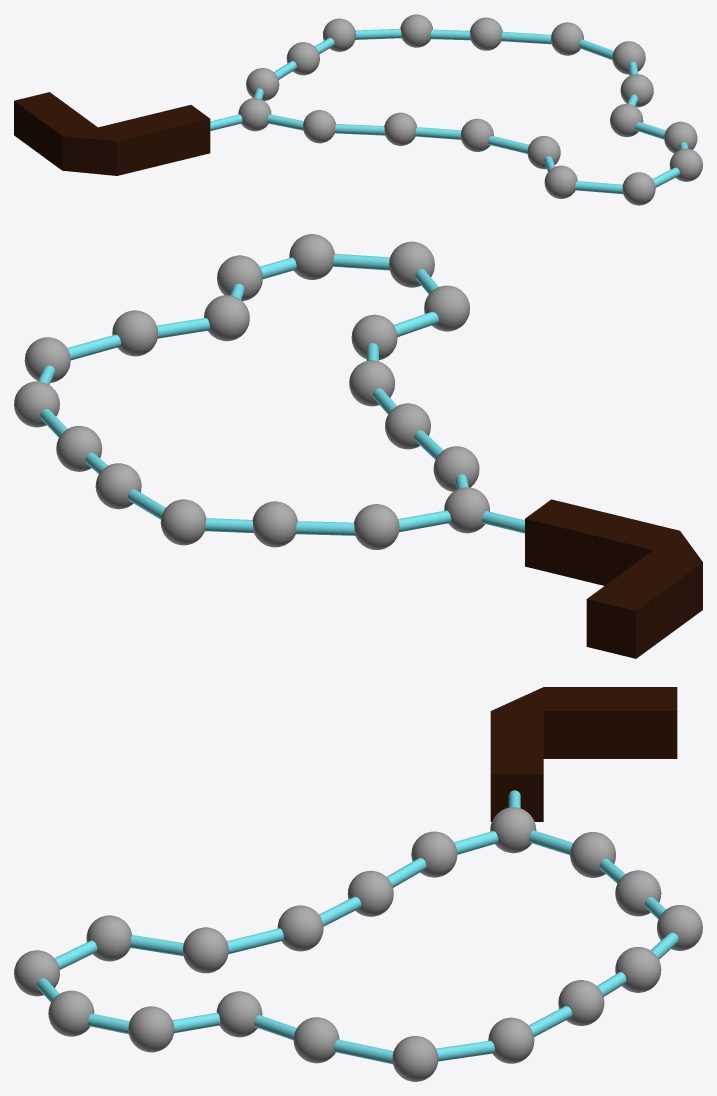
The model's file is coix_part1_rig.fbx.
3 renders of one model, top to bottom at view 1: azimuth 30°, elevation 25°; view 2: azimuth 150°, elevation 25°; view 3: azimuth 270°, elevation 25°, orthographic. The views are drawn at different scales.
Visible parts, largest first — view 1: m; view 2: m; view 3: m.
Part boxes in pixels (x1,y1,x2,y2): m: [14, 14, 702, 205]; m: [14, 234, 702, 658]; m: [14, 687, 702, 1081].
Bounding box in the file's own units: 0.1802 × 0.0112 × 0.1453.
